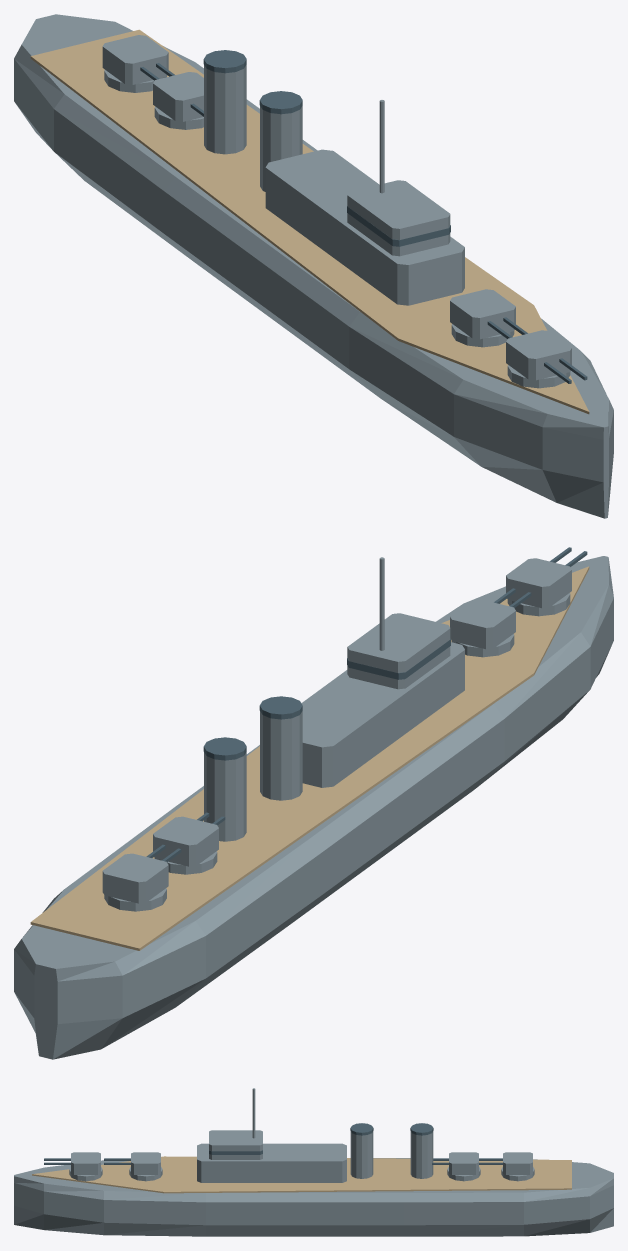
Rendered from cruiser.glb.
3 views of the same model, one above another, from view 1: azimuth 30°, elevation 25°; view 2: azimuth 150°, elevation 25°; view 3: azimuth 270°, elevation 25° (orthographic). The views are drawn at different scales.
Visible parts, largest first — view 1: cruiser; view 2: cruiser; view 3: cruiser.
Boxes of the visible parts, x1=… form: cruiser: x1=14, y1=14, x2=613, y2=518; cruiser: x1=14, y1=547, x2=613, y2=1059; cruiser: x1=14, y1=1088, x2=613, y2=1236.
Bounding box in the file's own units: 16 × 24.95 × 100.
